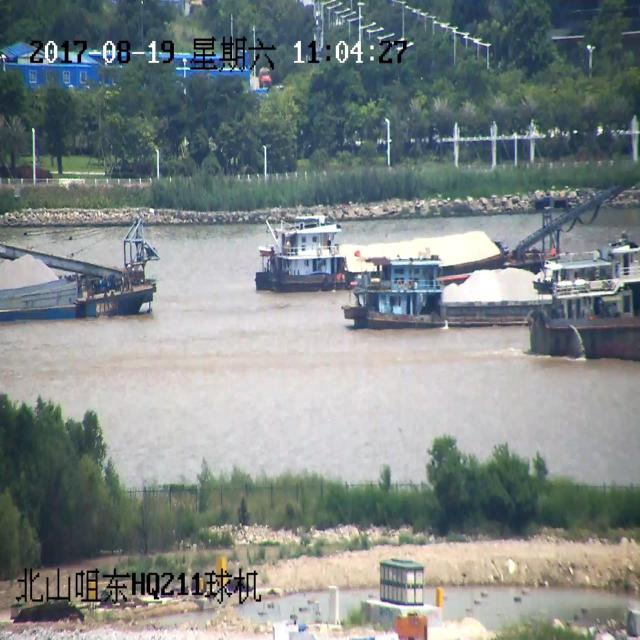cargoship: (265, 181, 543, 273), (0, 216, 165, 326), (338, 255, 524, 348), (532, 244, 640, 360)
